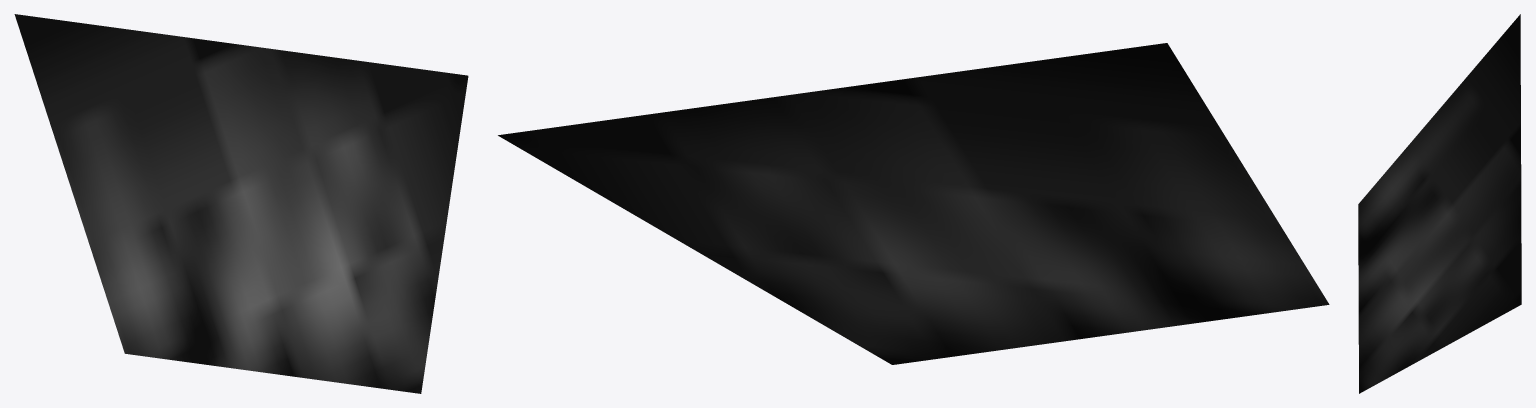
File: !flare35_g0.fbx
The picture shows the model from 3 angles, left to right: view 1: azimuth 30°, elevation 25°; view 2: azimuth 150°, elevation 25°; view 3: azimuth 270°, elevation 25°; orthographic projection. The views are drawn at different scales.
Parts seen in each view (by area): view 1: !flare35_g0_L0_add; view 2: !flare35_g0_L0_add; view 3: !flare35_g0_L0_add.
Boxes of the visible parts, bbox=[...] form: !flare35_g0_L0_add: bbox=[14, 14, 468, 393]; !flare35_g0_L0_add: bbox=[498, 43, 1329, 364]; !flare35_g0_L0_add: bbox=[1358, 14, 1521, 393].
Size of the model in its own units: 1.09 by 0.8516 by 0.4615.
